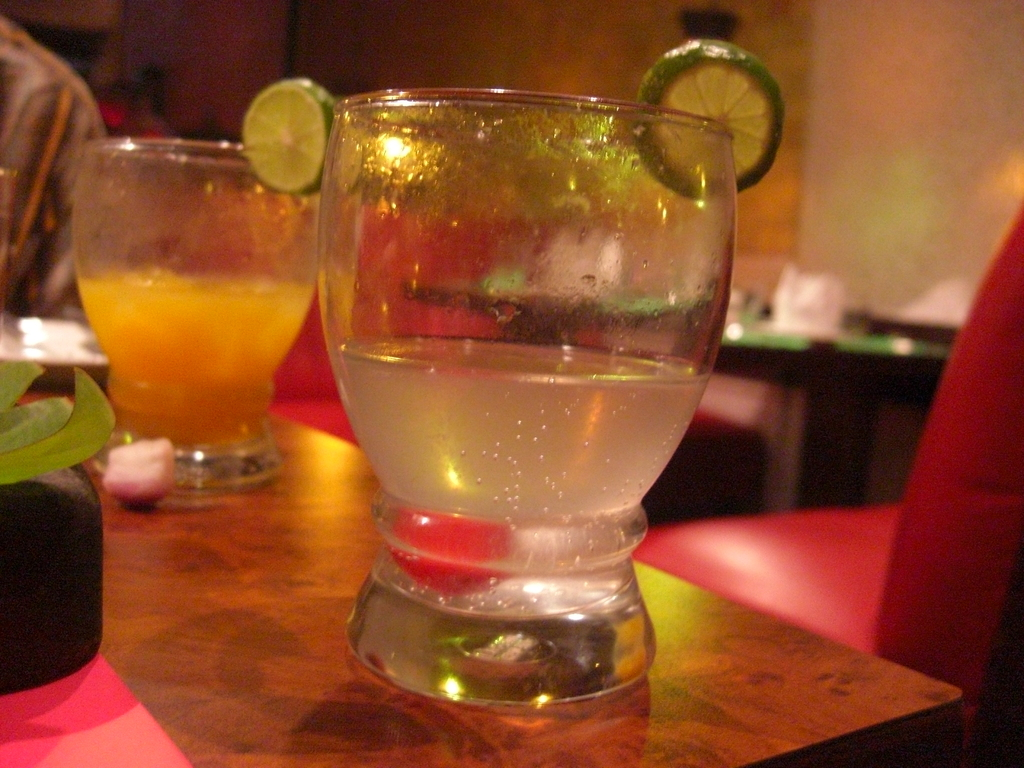person: (0, 0, 114, 338)
